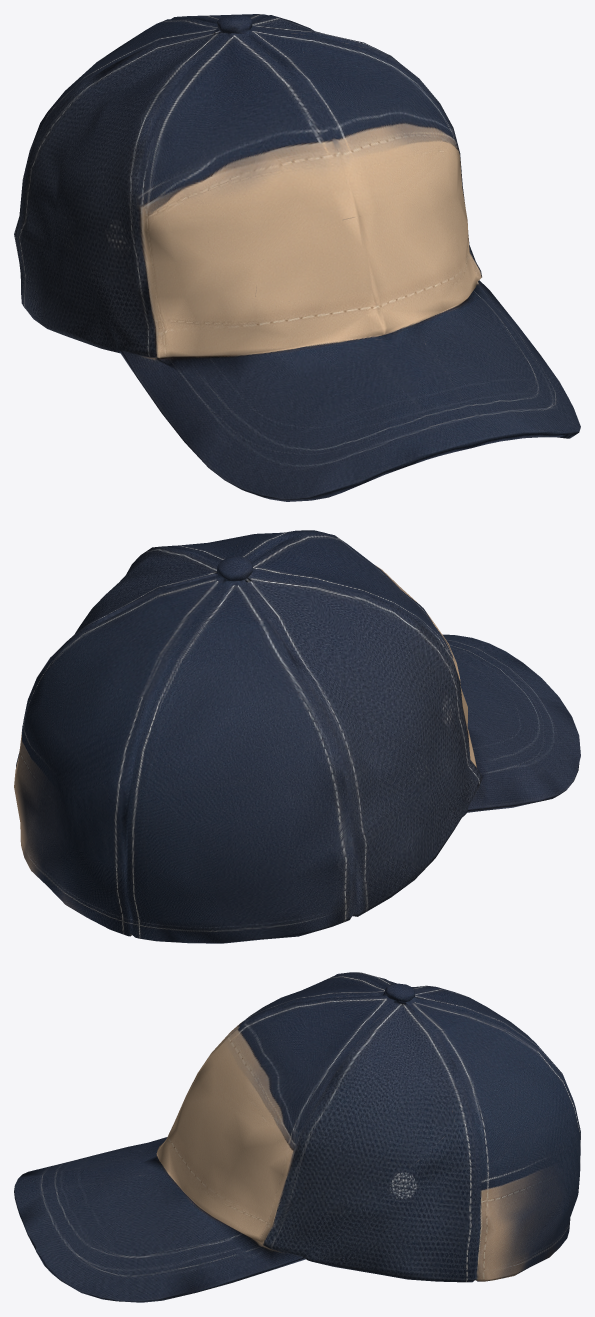
The model's file is hunter-cap-backwards.glb.
The picture shows the model from 3 angles, top to bottom: view 1: azimuth 30°, elevation 25°; view 2: azimuth 150°, elevation 25°; view 3: azimuth 270°, elevation 25°; orthographic projection. The views are drawn at different scales.
Size of the model in its own units: 1.24 by 0.9831 by 2.
1 material, 1 textured.
